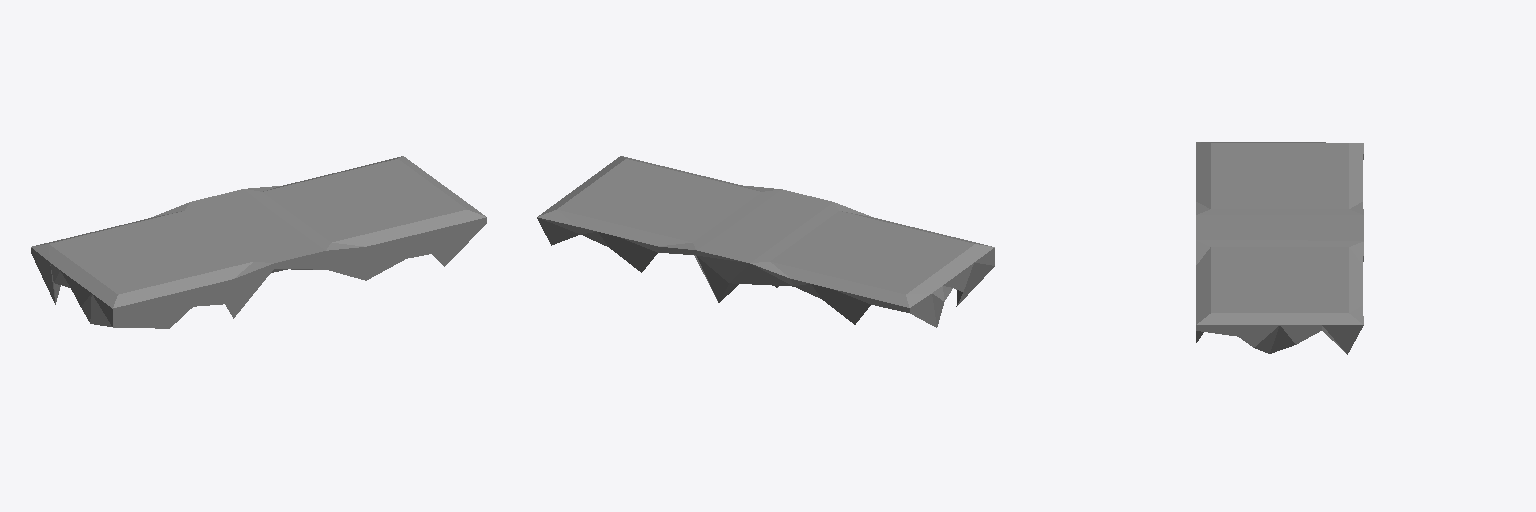
File: Platform_Six_Top.obj
3 renders of one model, left to right at view 1: azimuth 30°, elevation 25°; view 2: azimuth 150°, elevation 25°; view 3: azimuth 270°, elevation 25°, orthographic.
Parts seen in each view (by area): view 1: Top001; view 2: Top001; view 3: Top001.
Boxes of the visible parts, x1,y1,x2,y2 form: Top001: [31, 156, 486, 328]; Top001: [537, 156, 994, 327]; Top001: [1196, 142, 1363, 354].
Bounding box in the file's own units: 301 × 44.26 × 116.